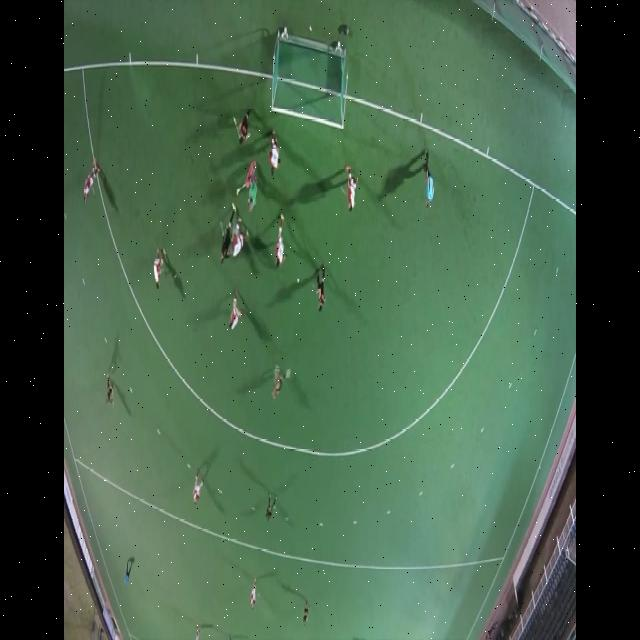humans: (226, 212, 251, 264), (80, 156, 104, 206), (272, 206, 289, 276), (420, 150, 438, 215), (270, 361, 294, 408), (232, 96, 254, 146), (218, 200, 231, 270), (228, 287, 246, 337), (266, 126, 282, 178), (245, 158, 260, 213), (344, 165, 359, 218), (188, 469, 206, 513), (150, 249, 166, 295), (315, 265, 329, 316), (121, 552, 134, 596), (266, 488, 278, 530), (102, 377, 114, 410), (248, 574, 257, 616), (301, 600, 311, 629)
